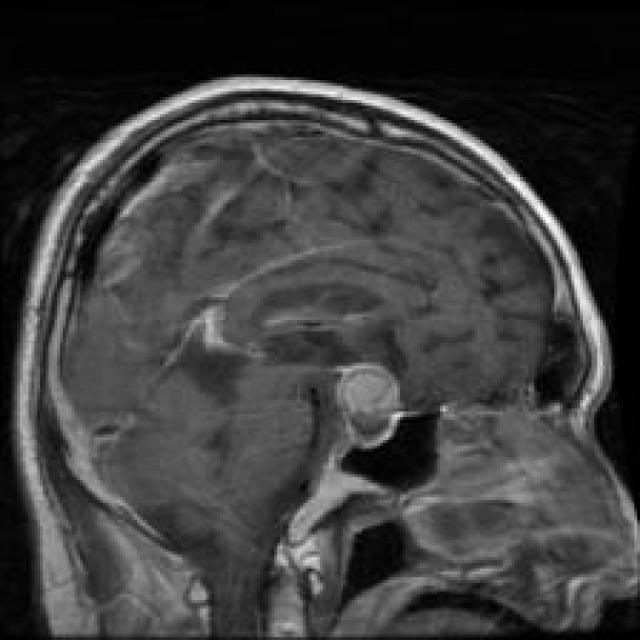pituitary_tumor: (322, 339, 419, 461)
